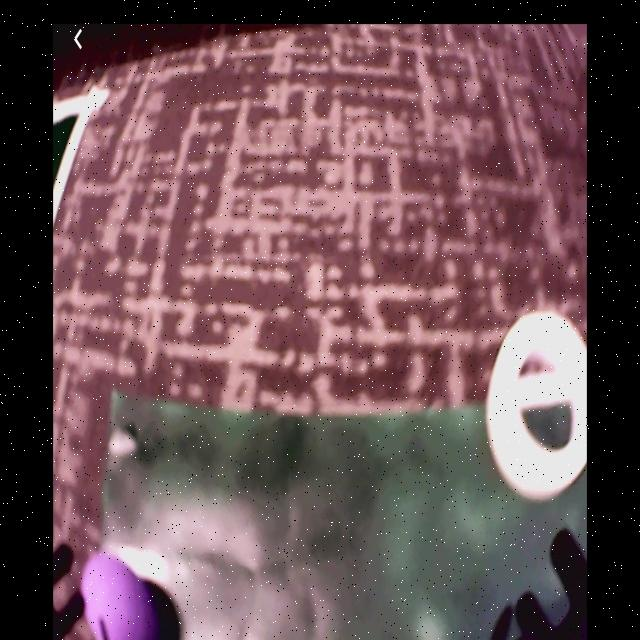ball: (82, 554, 164, 638)
